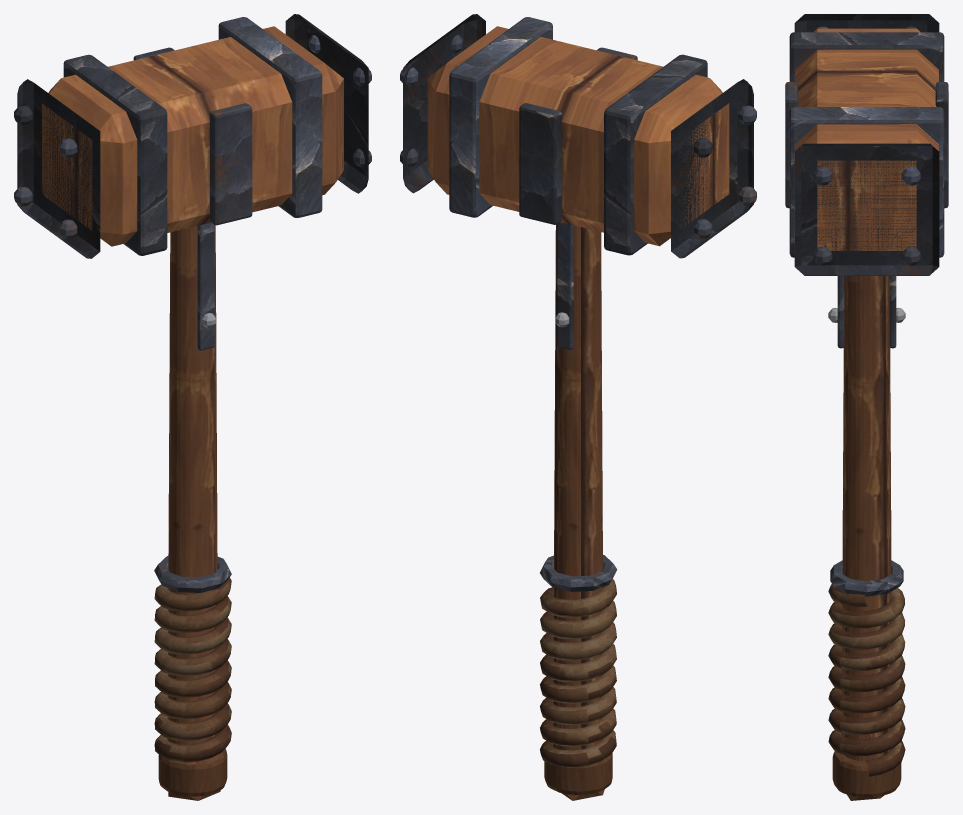
File: build_hammer.glb
3 renders of one model, left to right at view 1: azimuth 30°, elevation 25°; view 2: azimuth 150°, elevation 25°; view 3: azimuth 270°, elevation 25°, orthographic.
Visible parts, largest first — view 1: model; view 2: model; view 3: model.
Part boxes in pixels (<box>): model: <box>14,14,371,800</box>; model: <box>400,14,756,800</box>; model: <box>785,14,948,800</box>.
Size of the model in its own units: 0.3211 by 0.7206 by 0.148.
9 materials, 8 textured.
